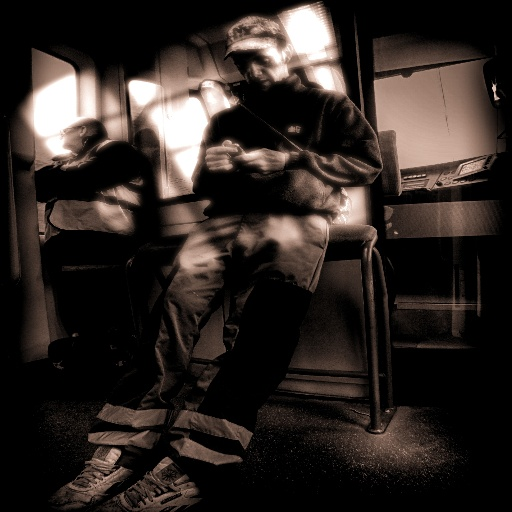hand: (201, 134, 241, 174), (230, 147, 288, 174)
